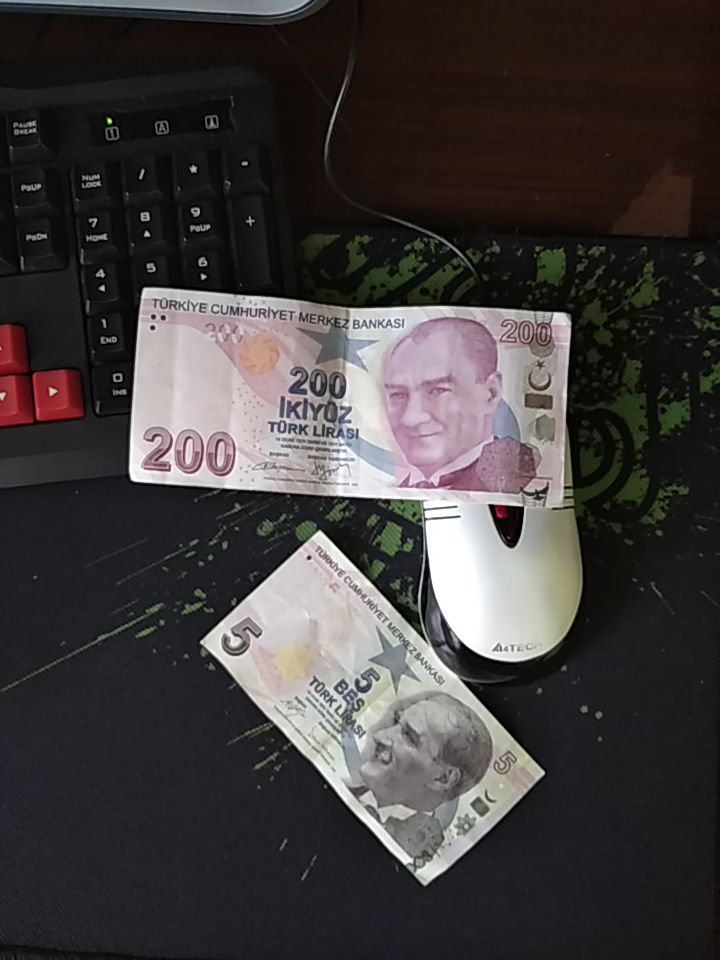200TL: (124, 283, 572, 510)
5TL: (196, 529, 545, 891)
